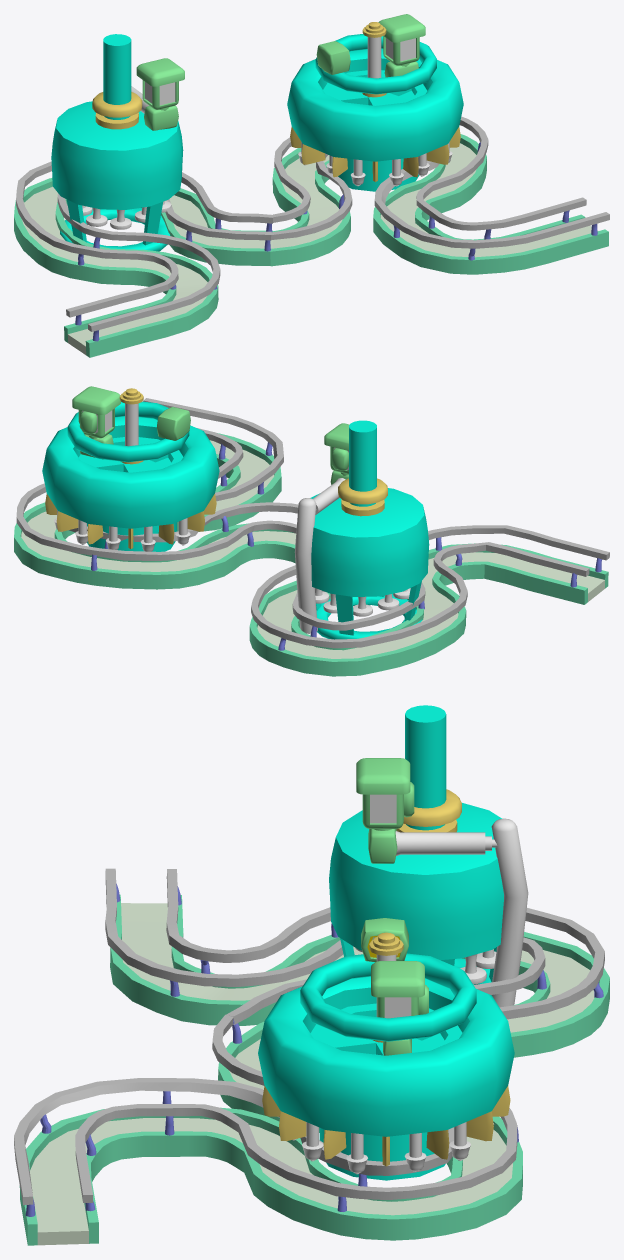
Rendered from bottleingline.fbx.
3 renders of one model, top to bottom at view 1: azimuth 30°, elevation 25°; view 2: azimuth 150°, elevation 25°; view 3: azimuth 270°, elevation 25°, orthographic. The views are drawn at different scales.
Visible parts, largest first — view 1: Cylinder.014, Cube.001, Cube.007, Cube.008, Cube.009, Cube.010, Cylinder.028; view 2: Cylinder.014, Cube.001, Cube.008, Cube.007, Cube.009, Cube.010, Cylinder.028; view 3: Cylinder.014, Cube.001, Cube.007, Cube.008, Cube.010, Cube.009, Cylinder.028.
Boxes of the visible parts, left/top/right/bottom form: Cylinder.014: left=287, top=14, right=463, bottom=191; Cube.001: left=51, top=34, right=184, bottom=251; Cube.007: left=270, top=134, right=608, bottom=274; Cube.008: left=14, top=178, right=273, bottom=357; Cube.009: left=16, top=161, right=272, bottom=331; Cube.010: left=271, top=116, right=609, bottom=248; Cylinder.028: left=75, top=142, right=597, bottom=341; Cylinder.014: left=42, top=386, right=219, bottom=551; Cube.001: left=294, top=420, right=429, bottom=639; Cube.008: left=249, top=543, right=608, bottom=676; Cube.007: left=14, top=433, right=296, bottom=589; Cube.009: left=251, top=525, right=609, bottom=648; Cube.010: left=16, top=398, right=298, bottom=560; Cylinder.028: left=91, top=442, right=602, bottom=650; Cylinder.014: left=258, top=918, right=514, bottom=1180; Cube.001: left=329, top=705, right=528, bottom=1007; Cube.007: left=19, top=1042, right=522, bottom=1245; Cube.008: left=110, top=894, right=609, bottom=1058; Cube.010: left=14, top=1015, right=517, bottom=1205; Cube.009: left=105, top=868, right=604, bottom=1024; Cylinder.028: left=25, top=883, right=603, bottom=1216.
Size of the model in its own units: 2531 by 1013 by 1827.
